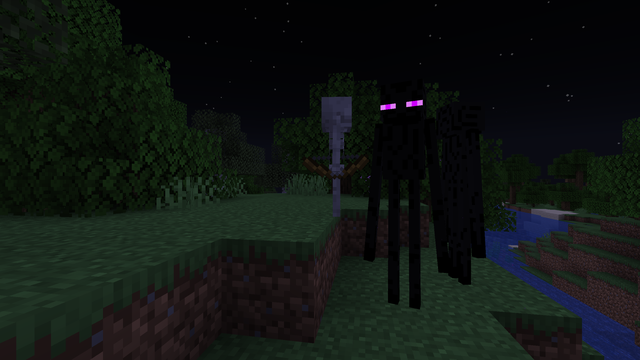endermens: (379, 70, 434, 317), (442, 93, 488, 287)
squelettes: (316, 95, 353, 217)
